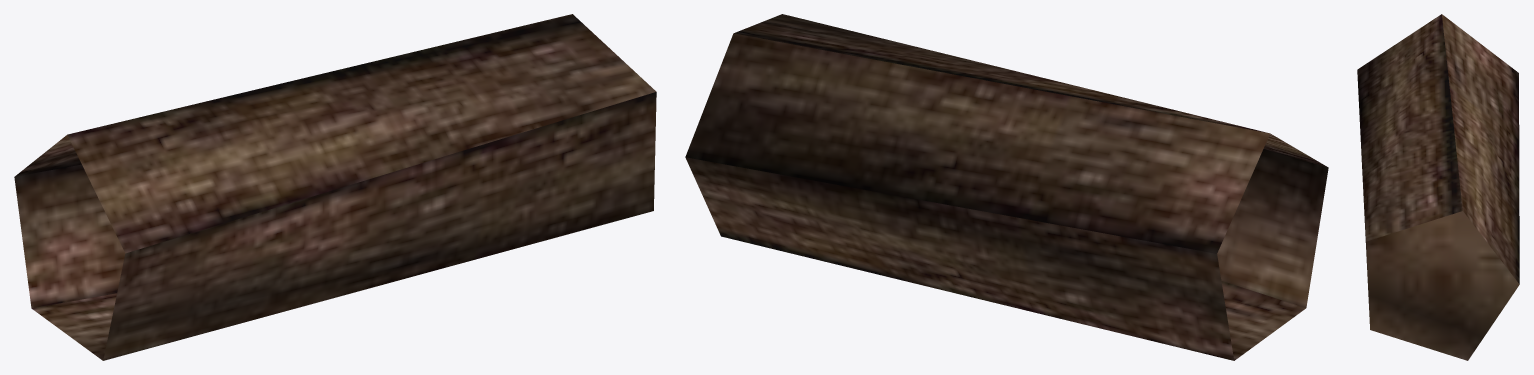
The model's file is NC_LOB_HOUSEPLANKS.glb.
The picture shows the model from 3 angles, left to right: view 1: azimuth 30°, elevation 25°; view 2: azimuth 150°, elevation 25°; view 3: azimuth 270°, elevation 25°; orthographic projection. The views are drawn at different scales.
Parts seen in each view (by area): view 1: Mesh; view 2: Mesh; view 3: Mesh.
Part boxes in pixels (x1,y1,x2,y2): Mesh: (14,14,656,360); Mesh: (685,14,1328,360); Mesh: (1357,14,1519,360).
Size of the model in its own units: 0.61 by 0.2368 by 0.2193.
Materials: 2 (2 with a texture image).
